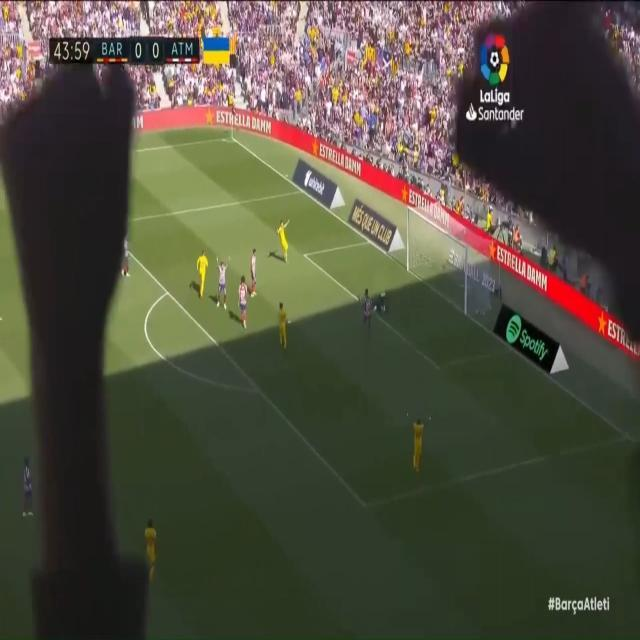goalkeeper: (370, 294, 392, 323)
player: (16, 446, 37, 537), (406, 403, 431, 475), (139, 509, 165, 577), (213, 259, 235, 314), (235, 272, 253, 331), (195, 250, 211, 300), (276, 218, 294, 262), (121, 230, 136, 280), (275, 297, 290, 346), (360, 285, 375, 327), (248, 247, 262, 289)
